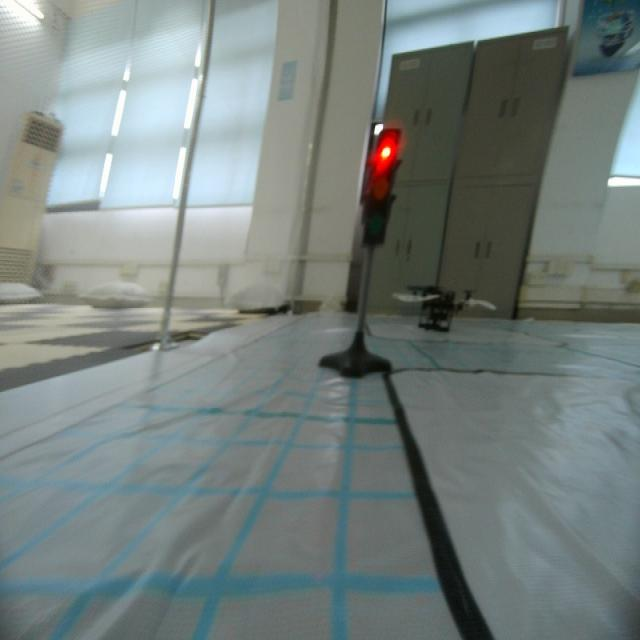red: (366, 125, 400, 258)
